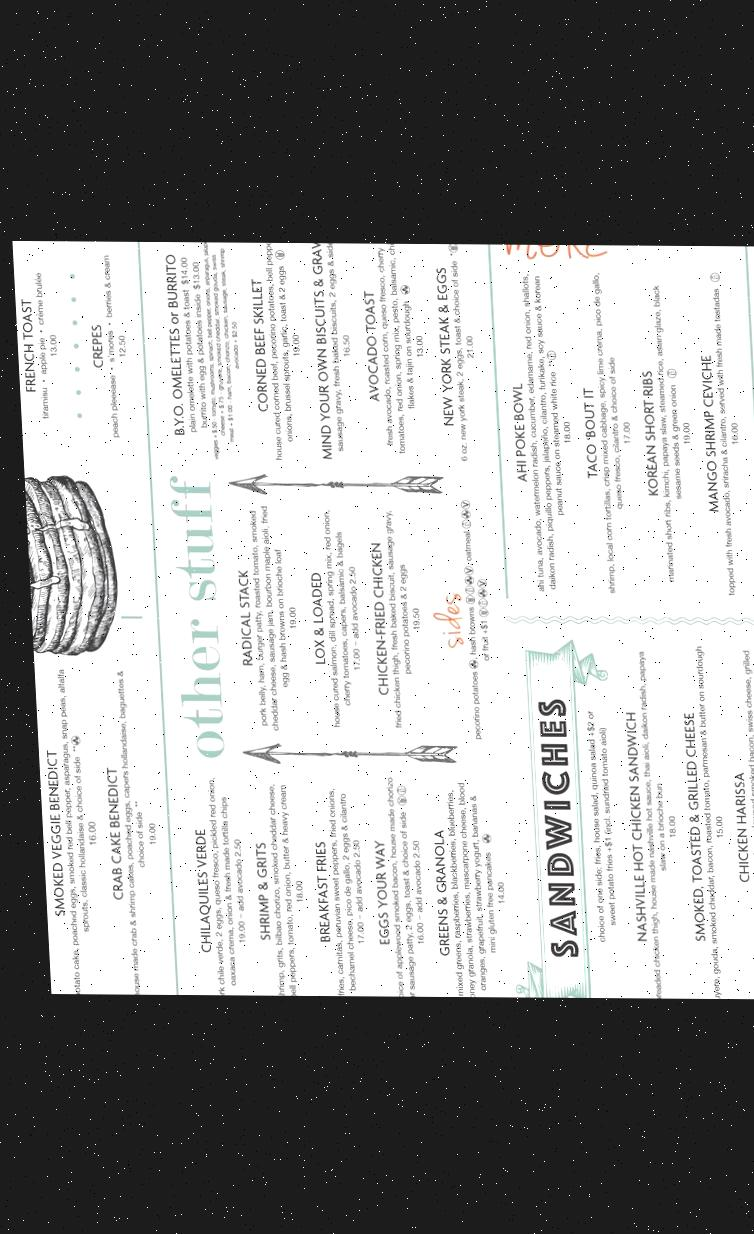Menu-Items: (497, 264, 577, 607), (611, 637, 680, 998), (570, 263, 638, 606), (34, 660, 102, 994), (629, 269, 694, 607), (687, 265, 750, 607), (92, 664, 157, 995), (668, 634, 727, 998), (156, 241, 244, 465), (416, 771, 501, 997), (224, 497, 298, 737), (353, 242, 430, 467), (295, 495, 364, 738), (175, 767, 247, 995), (356, 770, 423, 996), (358, 498, 420, 738), (242, 769, 305, 996), (243, 241, 306, 467), (298, 771, 361, 996), (715, 637, 754, 998), (428, 242, 487, 473), (76, 240, 135, 470), (302, 242, 355, 468), (10, 240, 61, 466)
